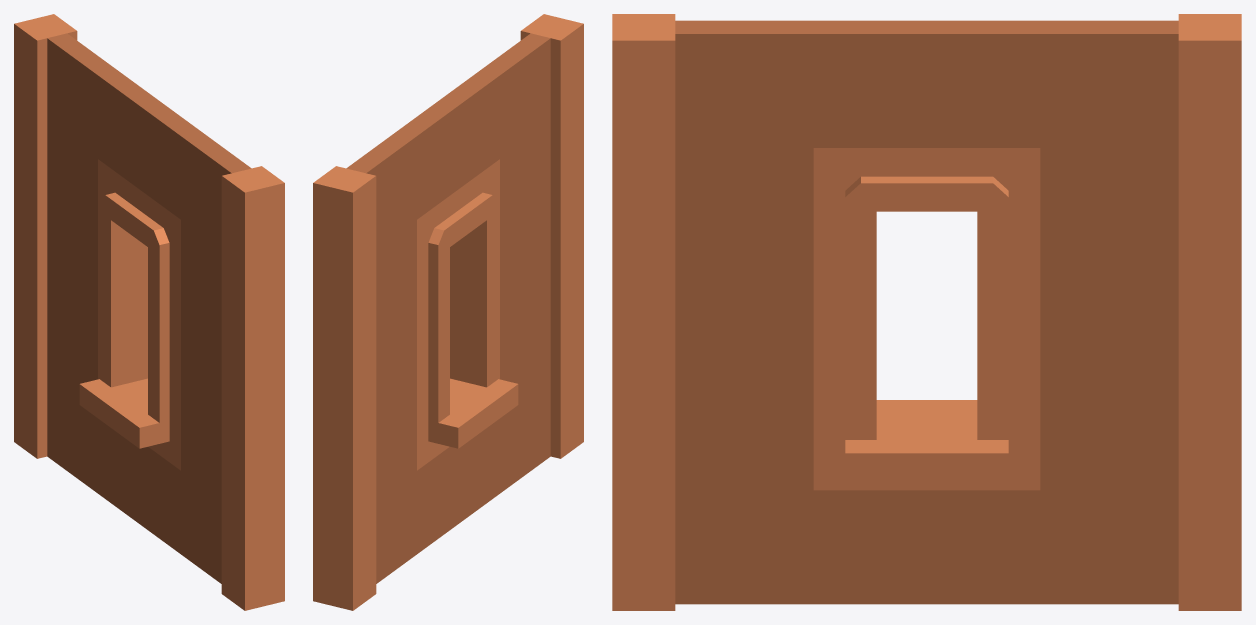
Rendered from wallWoodWindowSmall.fbx.
3 views of the same model, side by side, from view 1: azimuth 30°, elevation 25°; view 2: azimuth 150°, elevation 25°; view 3: azimuth 270°, elevation 25° (orthographic). The views are drawn at different scales.
Parts seen in each view (by area): view 1: wallWoodWindowSmall; view 2: wallWoodWindowSmall; view 3: wallWoodWindowSmall.
Part boxes in pixels (x1,y1,x2,y2): wallWoodWindowSmall: [14, 14, 284, 610]; wallWoodWindowSmall: [313, 14, 583, 610]; wallWoodWindowSmall: [612, 14, 1241, 610].
Size of the model in its own units: 2 by 10 by 10.
